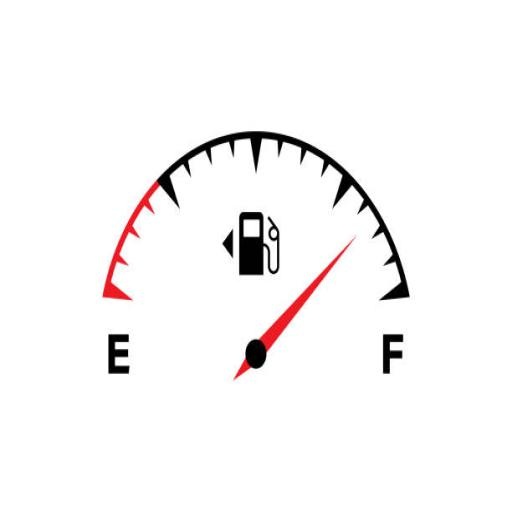empty: (102, 320, 133, 382)
fuel_icon: (238, 199, 280, 285)
full: (372, 331, 410, 376)
guage_area: (82, 130, 414, 396)
needle_center: (234, 322, 274, 392)
needle_tip: (329, 227, 365, 270)
